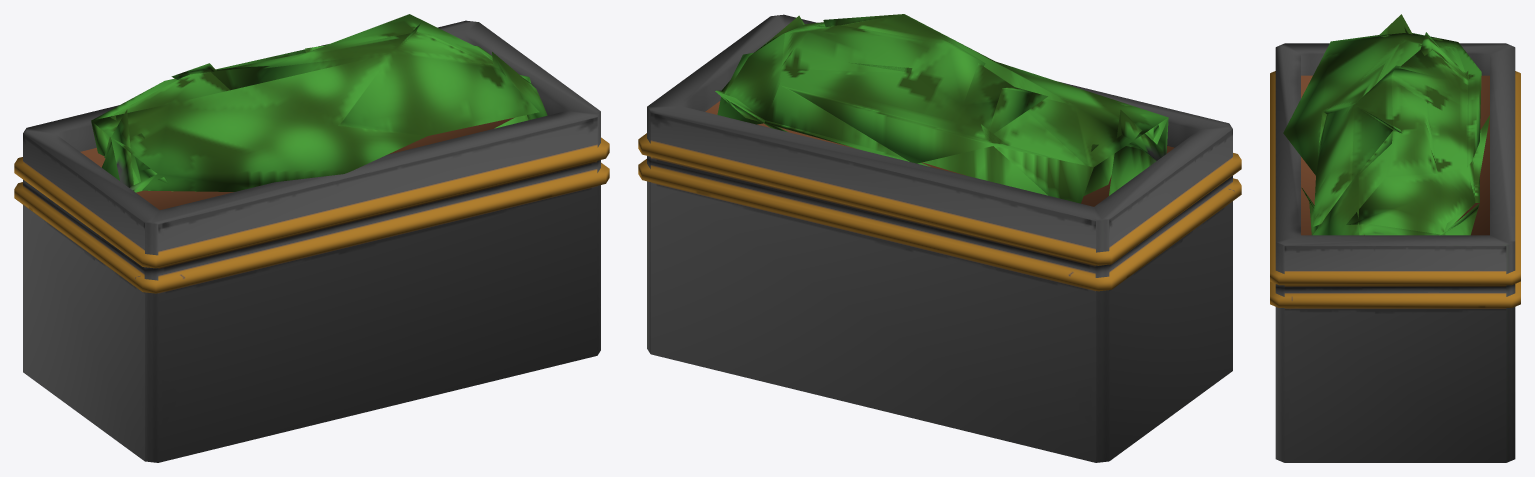
The model's file is decor_Planter.fbx.
3 views of the same model, side by side, from view 1: azimuth 30°, elevation 25°; view 2: azimuth 150°, elevation 25°; view 3: azimuth 270°, elevation 25° (orthographic). The views are drawn at different scales.
Parts seen in each view (by area): view 1: Planter; view 2: Planter; view 3: Planter.
Boxes of the visible parts, bbox=[...] form: Planter: bbox=[14, 14, 609, 462]; Planter: bbox=[638, 14, 1241, 462]; Planter: bbox=[1270, 14, 1520, 462].
Bounding box in the file's own units: 614 × 391 × 314.
Materials: 1 (1 with a texture image).
